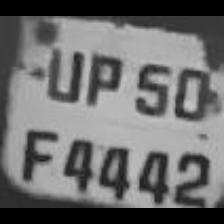0: (167, 58, 217, 124)
2: (169, 138, 213, 202)
4: (55, 119, 95, 190), (93, 132, 133, 198), (133, 138, 171, 204)
5: (125, 54, 173, 122)
F: (13, 120, 59, 182)
P: (81, 44, 127, 110)
U: (38, 40, 86, 106)
